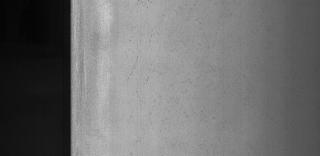silk spot: (123, 1, 210, 144)
